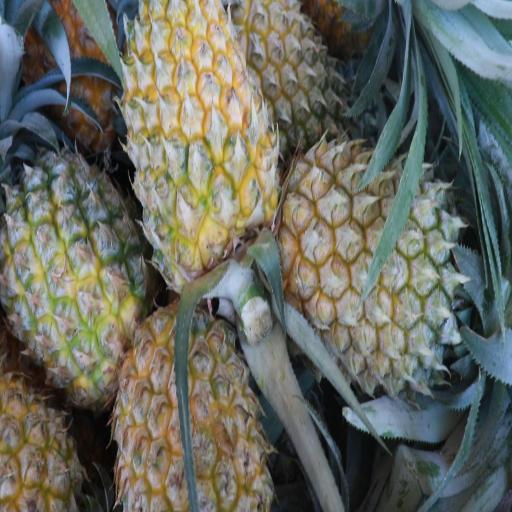------------------------------: (114, 297, 262, 512)
Pineapple - v8 v1: (124, 0, 275, 279), (4, 152, 140, 396)
